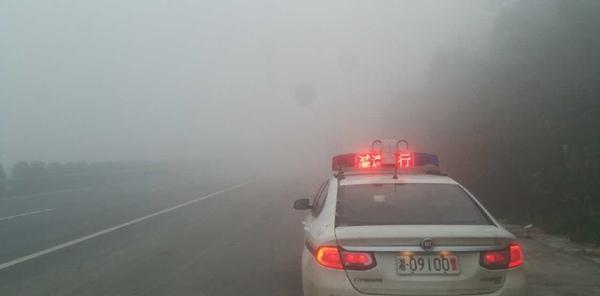car: (291, 146, 526, 296)
